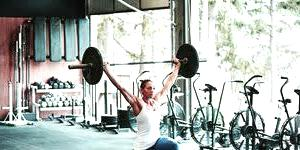Barbell: (63, 61, 72, 73)
